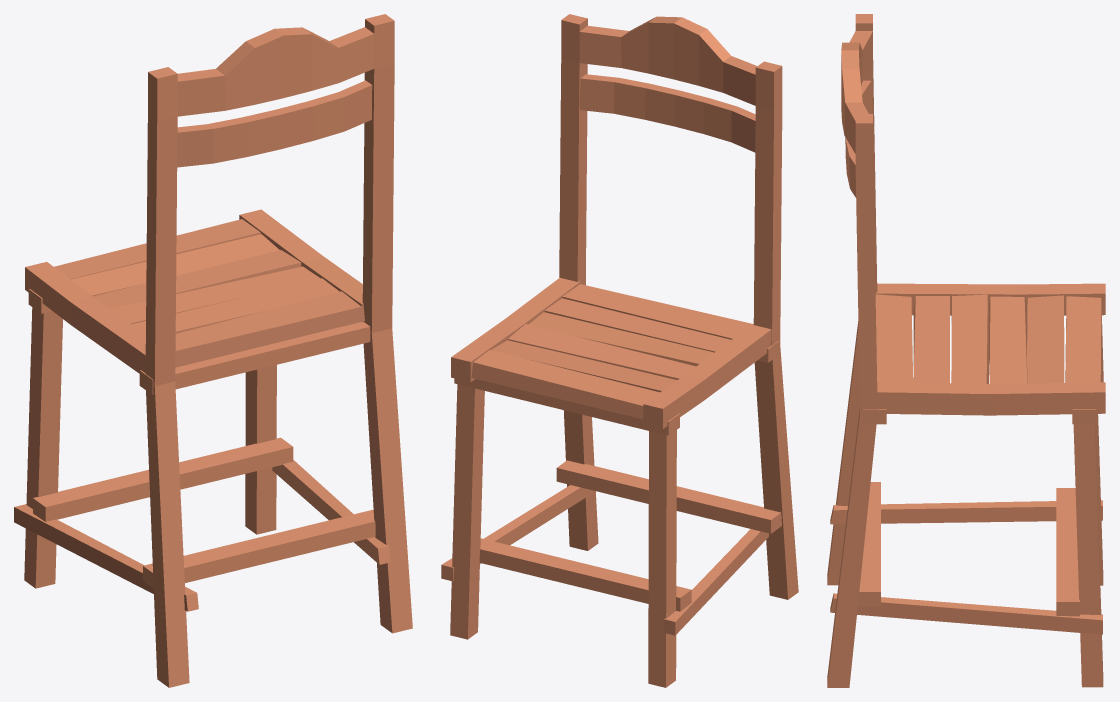
The model's file is Square Chair.fbx.
3 renders of one model, left to right at view 1: azimuth 30°, elevation 25°; view 2: azimuth 150°, elevation 25°; view 3: azimuth 270°, elevation 25°, orthographic. The views are drawn at different scales.
Parts seen in each view (by area): view 1: Cube.193; view 2: Cube.193; view 3: Cube.193.
Part boxes in pixels (x1,y1,x2,y2): Cube.193: (14,14,412,687); Cube.193: (441,14,798,687); Cube.193: (827,14,1105,687).
Bounding box in the file's own units: 64.89 × 146 × 63.58.
